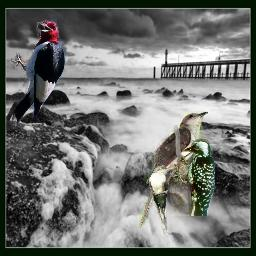Cuckoo: (139, 111, 208, 228), (149, 165, 171, 234)
Woodpecker: (7, 14, 66, 130), (170, 139, 215, 216)
